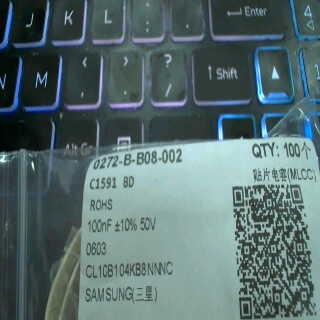100nF: (83, 212, 115, 238)
